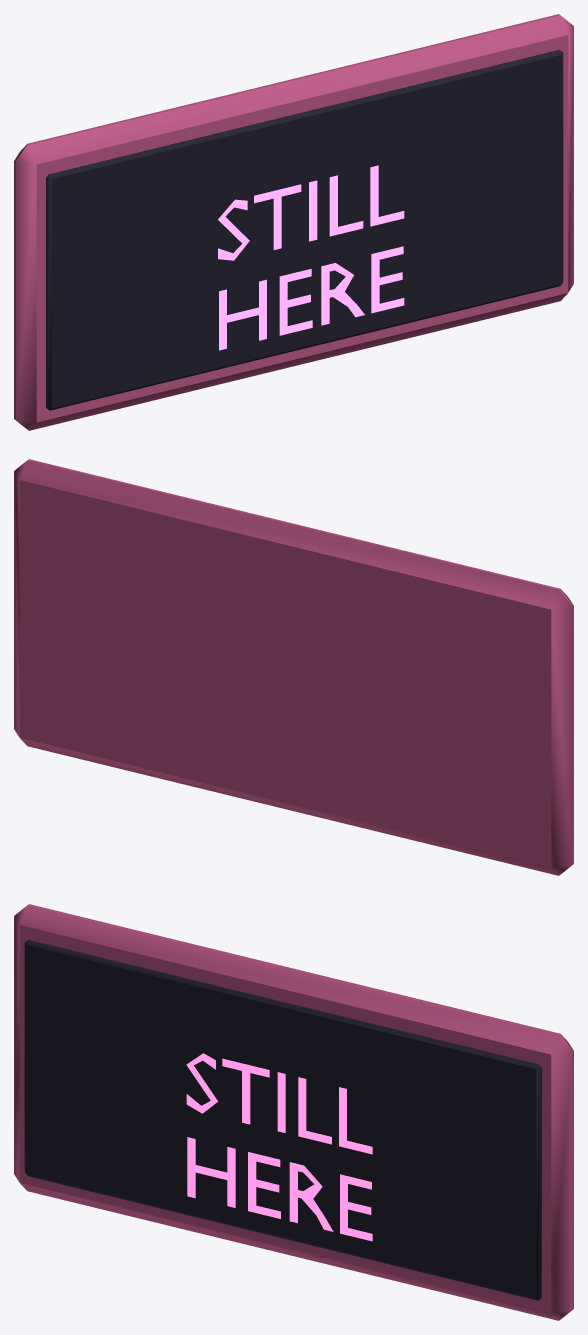
The model's file is sign_neonCustom.glb.
3 renders of one model, top to bottom at view 1: azimuth 30°, elevation 25°; view 2: azimuth 150°, elevation 25°; view 3: azimuth 330°, elevation 25°, orthographic.
Visible parts, largest first — view 1: sign, glow; view 2: sign; view 3: sign, glow.
Part boxes in pixels (x1,y1,x2,y2): sign: (14, 14, 573, 430); glow: (218, 165, 404, 350); sign: (14, 459, 573, 875); sign: (14, 904, 573, 1320); glow: (186, 1053, 372, 1241).
Bounding box in the file's own units: 0.94 × 0.46 × 0.071.
